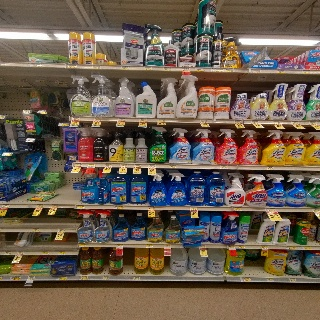All PRICE TAGS: (285, 245, 296, 250), (240, 277, 251, 282), (28, 62, 41, 66), (266, 207, 276, 212), (10, 276, 21, 280), (211, 68, 222, 72), (115, 205, 125, 209), (2, 152, 12, 156), (301, 246, 311, 250), (234, 120, 244, 124), (225, 68, 234, 72), (55, 277, 67, 280), (67, 64, 76, 68), (120, 66, 129, 70), (252, 69, 261, 73), (58, 123, 69, 126), (133, 276, 141, 280), (80, 276, 88, 280), (76, 205, 84, 209), (148, 164, 156, 168), (147, 206, 155, 210), (38, 110, 46, 114), (1, 204, 9, 208), (16, 251, 24, 255), (27, 276, 35, 280), (260, 245, 268, 249), (234, 207, 242, 211), (266, 166, 274, 170), (309, 121, 317, 125), (291, 121, 299, 125), (302, 70, 310, 74), (277, 70, 285, 74), (181, 67, 189, 71), (72, 117, 80, 121), (139, 118, 147, 122), (74, 163, 82, 167), (105, 163, 113, 167), (103, 276, 110, 280), (164, 244, 171, 248), (220, 165, 227, 169), (169, 164, 176, 168), (134, 164, 141, 168), (51, 204, 58, 208), (32, 228, 39, 232), (58, 228, 65, 232), (58, 251, 65, 255), (238, 245, 245, 249), (266, 278, 273, 282), (273, 120, 280, 124), (93, 65, 100, 69), (116, 244, 124, 247), (190, 207, 198, 210), (22, 110, 30, 113), (37, 204, 43, 208), (42, 251, 48, 255), (290, 278, 296, 282), (313, 208, 319, 212), (144, 67, 152, 70), (163, 67, 171, 70), (158, 119, 166, 122), (200, 120, 208, 123), (200, 245, 207, 248), (146, 244, 153, 247), (4, 251, 11, 254), (228, 245, 235, 248), (252, 120, 259, 123), (94, 118, 101, 121), (118, 118, 125, 121), (88, 164, 95, 167), (120, 164, 127, 167)
